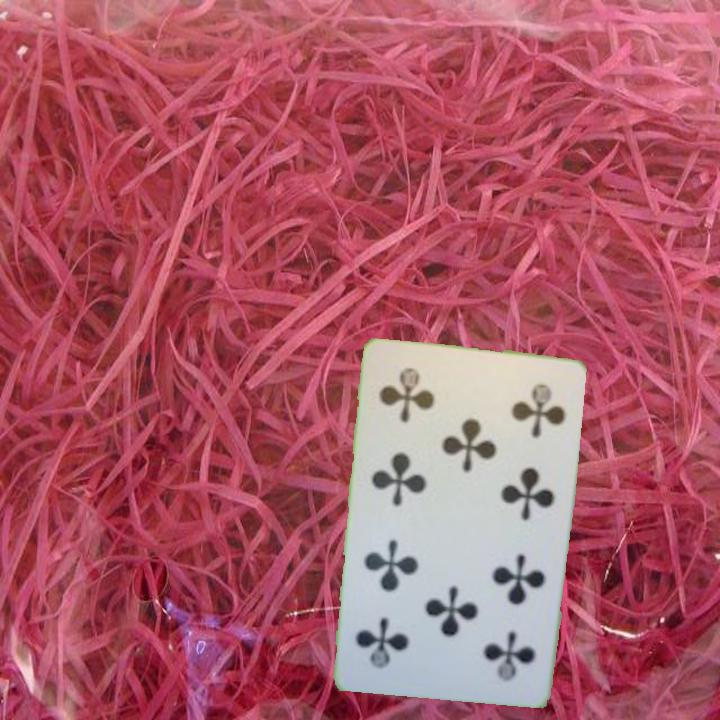c_10.png: (442, 598, 549, 692), (369, 355, 476, 449)
